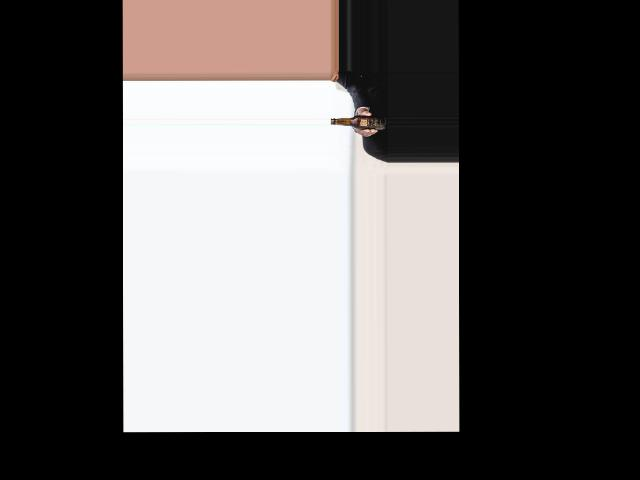beer: (330, 115, 386, 130)
